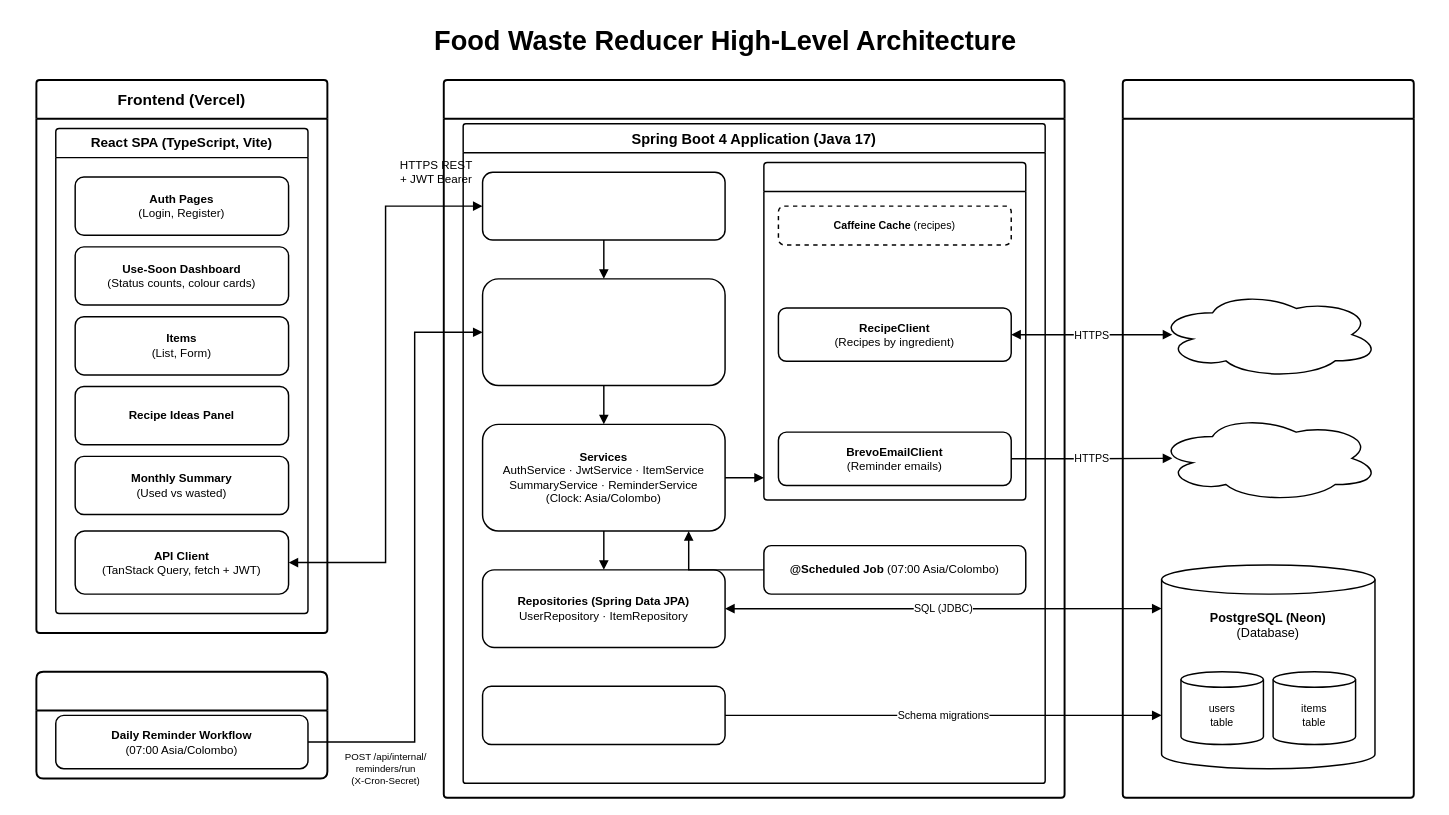
This 1449x815 diagram has some shape labels left out. The shapes that lost their labels are listed below. From the top down, each one's box as (x1, y1, x2, y2) in pixels, then its label:
(481, 171, 725, 240): Spring Security Filter Chain (JWT verify, CORS)
(481, 278, 725, 386): REST Controllers Auth · Items · Recipes Summary · Settings · Reminder trigger
(763, 161, 1026, 500): API Clients (RestClient)
(1156, 290, 1380, 379): TheMealDB API (Recipes)
(442, 79, 1065, 798): Backend (Render, Docker)
(1121, 79, 1414, 798): External Services
(1156, 414, 1380, 502): Brevo Email API (Email delivery)
(35, 670, 328, 779): Scheduler (GitHub Actions)
(481, 685, 725, 745): Flyway Migrations (V1__init.sql, V2__…)
